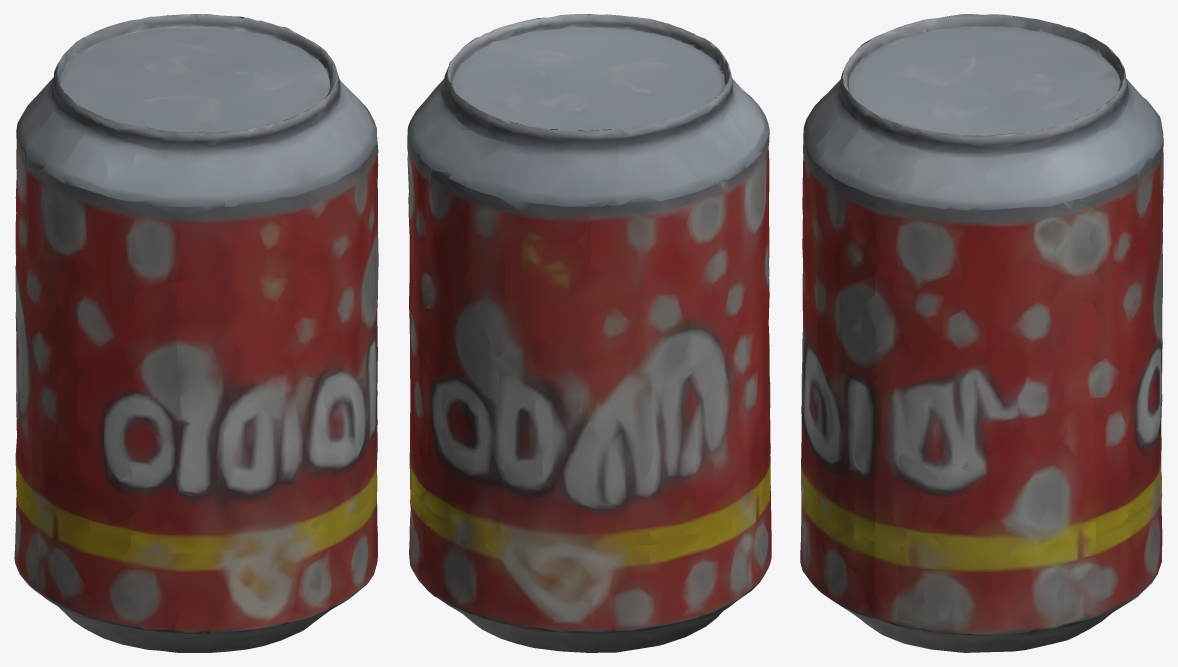
Rendered from 0005_mask_006_soda_can.glb.
3 views of the same model, side by side, from view 1: azimuth 30°, elevation 25°; view 2: azimuth 150°, elevation 25°; view 3: azimuth 270°, elevation 25° (orthographic).
Visible parts, largest first — view 1: mask_006_object; view 2: mask_006_object; view 3: mask_006_object.
Boxes of the visible parts, x1,y1,x2,y2 form: mask_006_object: (14,14,378,652); mask_006_object: (407,14,771,652); mask_006_object: (800,14,1163,652).
Size of the model in its own units: 0.1423 by 0.2283 by 0.1426.
